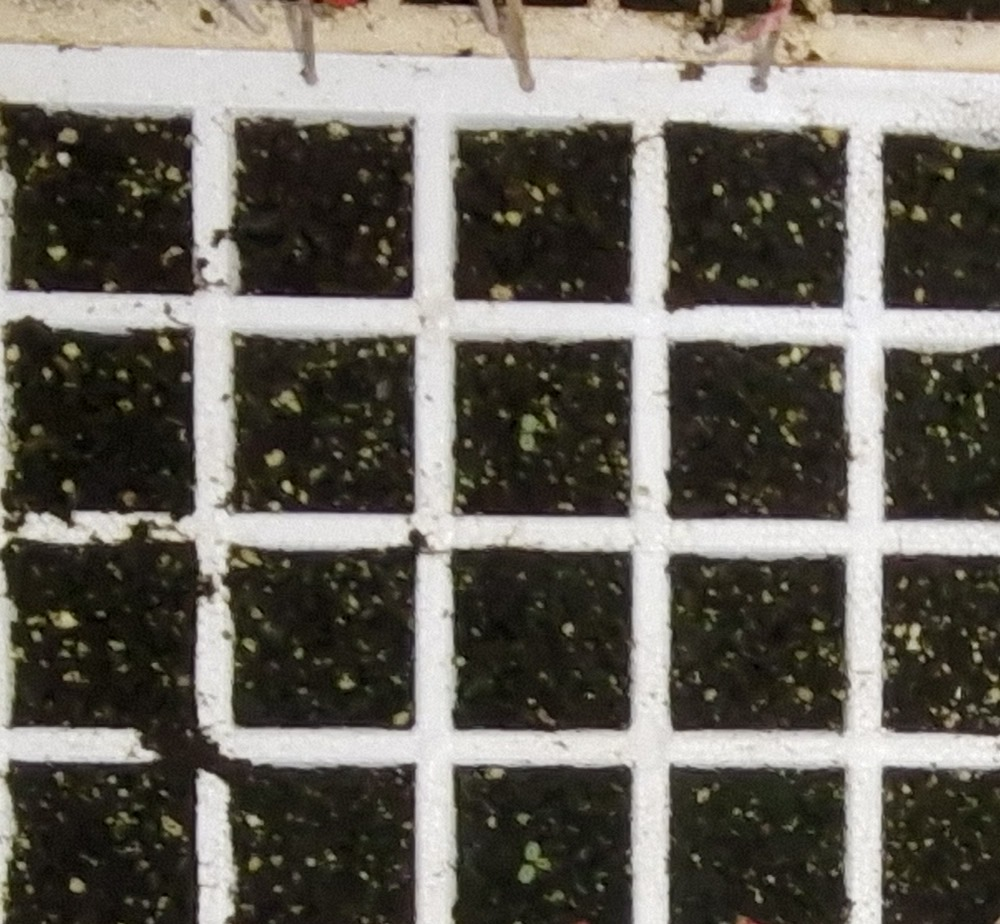Folha: (521, 414, 539, 431), (519, 865, 536, 883), (520, 434, 535, 451), (536, 858, 552, 871), (527, 843, 540, 859)
Germinacao: (519, 841, 552, 883), (520, 414, 539, 449)
